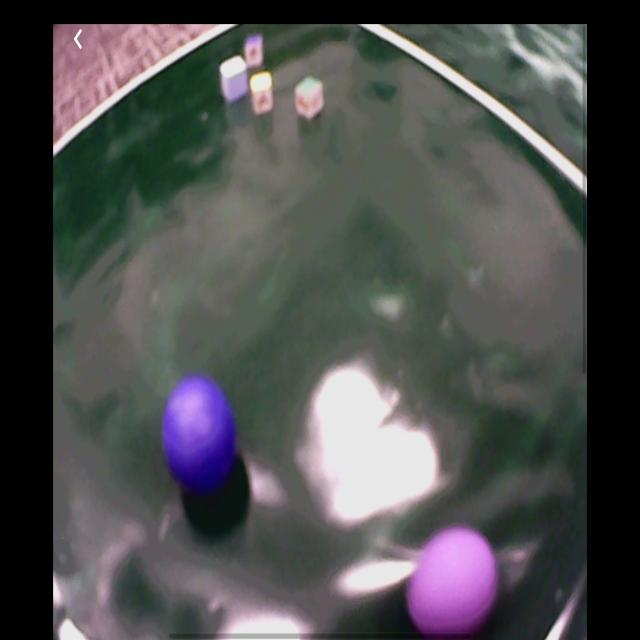ball: (408, 525, 501, 638), (163, 375, 238, 492)
